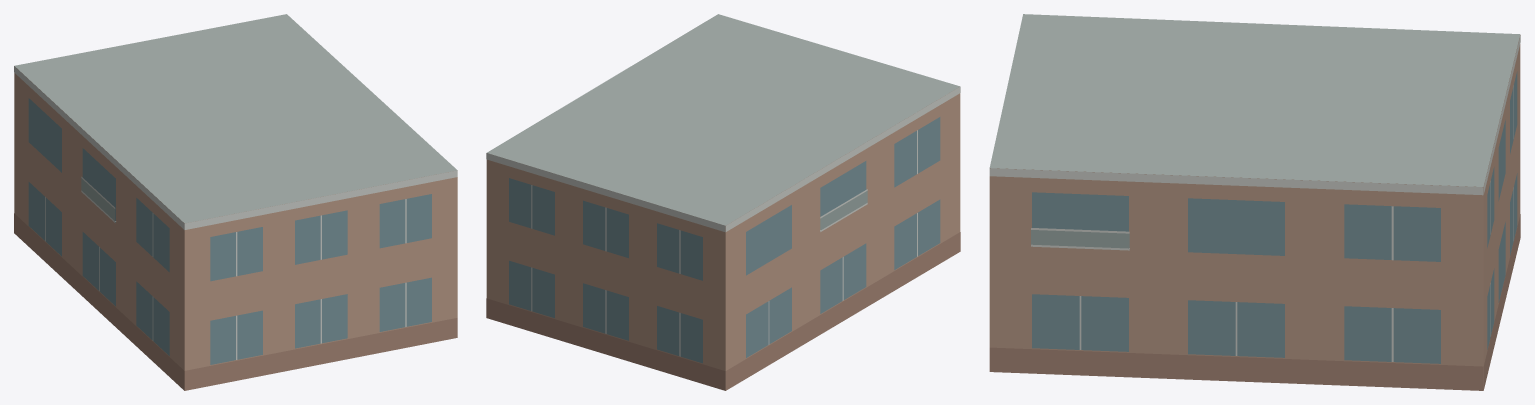
File: survey-upis-32564796.glb
3 renders of one model, left to right at view 1: azimuth 30°, elevation 25°; view 2: azimuth 150°, elevation 25°; view 3: azimuth 270°, elevation 25°, orthographic. The views are drawn at different scales.
Parts seen in each view (by area): view 1: survey-upis-32564796.tmp; view 2: survey-upis-32564796.tmp; view 3: survey-upis-32564796.tmp.
Boxes of the visible parts, x1,y1,x2,y2 form: survey-upis-32564796.tmp: [14, 14, 457, 390]; survey-upis-32564796.tmp: [486, 14, 960, 390]; survey-upis-32564796.tmp: [989, 14, 1520, 390].
Size of the model in its own units: 11.12 by 6.1 by 14.41.
